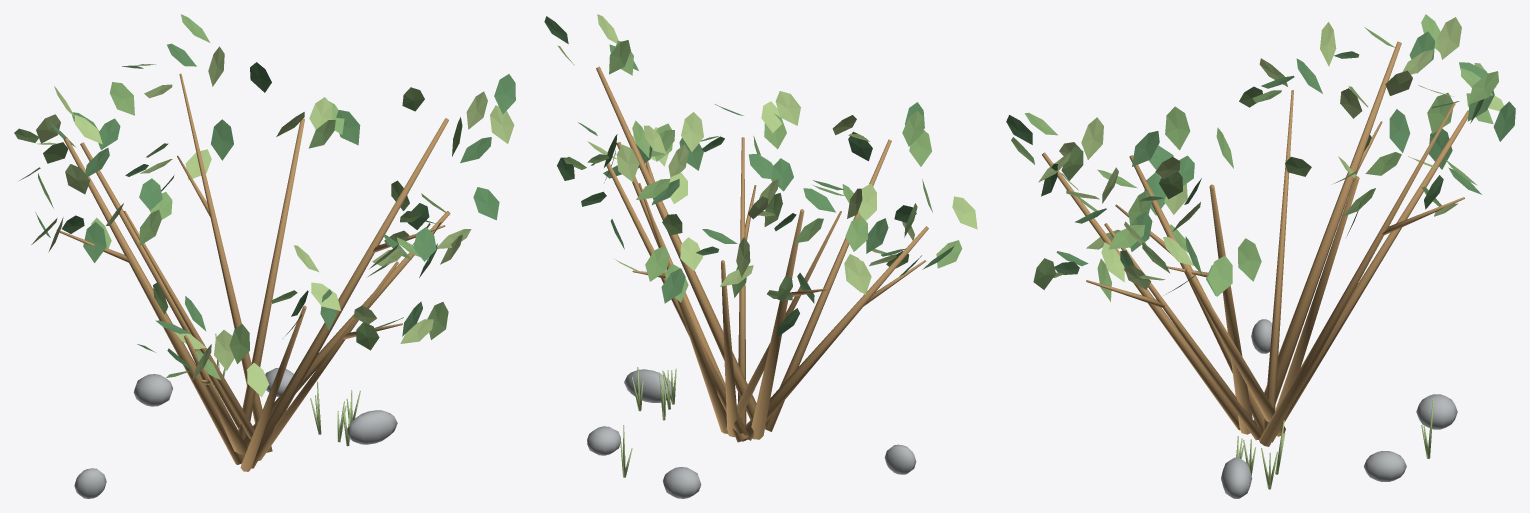
Rendered from green_bush.glb.
The picture shows the model from 3 angles, left to right: view 1: azimuth 30°, elevation 25°; view 2: azimuth 150°, elevation 25°; view 3: azimuth 270°, elevation 25°; orthographic projection. The views are drawn at different scales.
Visible parts, largest first — view 1: green_bush_stem_0, green_bush_stem_4, green_bush_stem_1, green_bush_stem_2, green_bush_stem_3, green_bush_stem_5, green_bush_stem_7, green_bush_stem_8, bush_ground_rock_1, green_bush_stem_9, green_bush_stem_6, bush_ground_rock_2 (+9 smaller); view 2: green_bush_stem_0, green_bush_stem_6, green_bush_stem_4, green_bush_stem_7, green_bush_stem_2, green_bush_stem_1, green_bush_stem_3, green_bush_stem_8, green_bush_stem_5, bush_ground_rock_1, green_bush_stem_9, bush_ground_rock_2 (+17 smaller); view 3: green_bush_stem_4, green_bush_stem_2, green_bush_stem_3, green_bush_stem_5, green_bush_stem_7, green_bush_stem_1, green_bush_stem_0, green_bush_stem_8, green_bush_stem_9, green_bush_stem_6, bush_ground_rock_2, bush_ground_rock_0 (+12 smaller).
Boxes of the visible parts, bbox=[...] form: green_bush_stem_0: bbox=[252, 118, 448, 468]; green_bush_stem_4: bbox=[63, 137, 244, 464]; green_bush_stem_1: bbox=[238, 118, 304, 440]; green_bush_stem_2: bbox=[179, 73, 272, 452]; green_bush_stem_3: bbox=[80, 142, 240, 428]; green_bush_stem_5: bbox=[123, 211, 254, 439]; green_bush_stem_7: bbox=[240, 305, 306, 471]; green_bush_stem_8: bbox=[258, 261, 398, 460]; bush_ground_rock_1: bbox=[347, 410, 397, 444]; green_bush_stem_9: bbox=[244, 211, 450, 447]; green_bush_stem_6: bbox=[184, 335, 247, 454]; bush_ground_rock_2: bbox=[133, 374, 172, 406]; green_bush_stem_0: bbox=[596, 66, 765, 428]; green_bush_stem_6: bbox=[745, 226, 928, 440]; green_bush_stem_4: bbox=[751, 209, 804, 439]; green_bush_stem_7: bbox=[765, 139, 891, 431]; green_bush_stem_2: bbox=[638, 183, 726, 433]; green_bush_stem_1: bbox=[606, 162, 749, 441]; green_bush_stem_3: bbox=[721, 260, 737, 437]; green_bush_stem_8: bbox=[738, 137, 746, 425]; green_bush_stem_5: bbox=[724, 211, 841, 434]; bush_ground_rock_1: bbox=[624, 369, 671, 402]; green_bush_stem_9: bbox=[616, 142, 748, 442]; bush_ground_rock_2: bbox=[662, 467, 701, 498]; green_bush_stem_4: bbox=[1253, 41, 1401, 424]; green_bush_stem_2: bbox=[1259, 103, 1455, 446]; green_bush_stem_3: bbox=[1272, 110, 1468, 442]; green_bush_stem_5: bbox=[1263, 90, 1293, 441]; green_bush_stem_7: bbox=[1042, 152, 1240, 430]; green_bush_stem_1: bbox=[1275, 176, 1359, 411]; green_bush_stem_0: bbox=[1209, 184, 1252, 434]; green_bush_stem_8: bbox=[1104, 223, 1262, 440]; green_bush_stem_9: bbox=[1185, 268, 1285, 436]; green_bush_stem_6: bbox=[1129, 155, 1264, 432]; bush_ground_rock_2: bbox=[1416, 394, 1457, 429]; bush_ground_rock_0: bbox=[1364, 451, 1406, 481].
Bounding box in the file's own units: 1.24 × 1.03 × 1.22.
